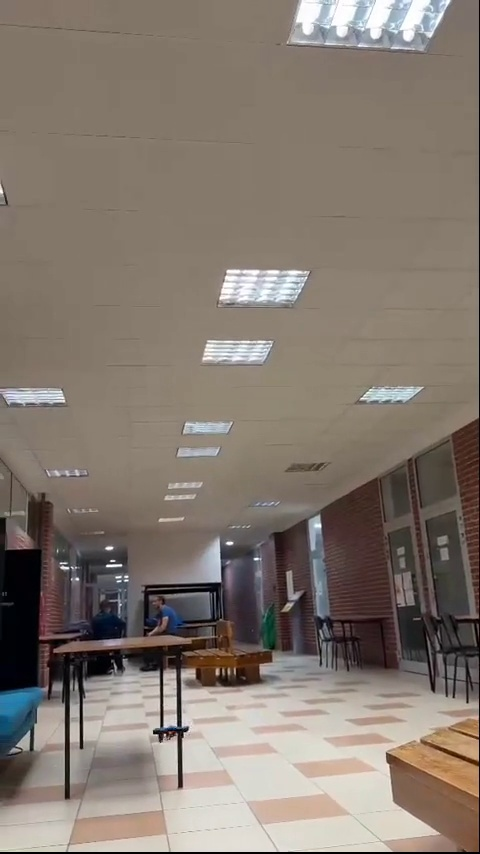drone: (154, 726, 189, 743)
no vest: (145, 596, 185, 637), (92, 598, 127, 644)
